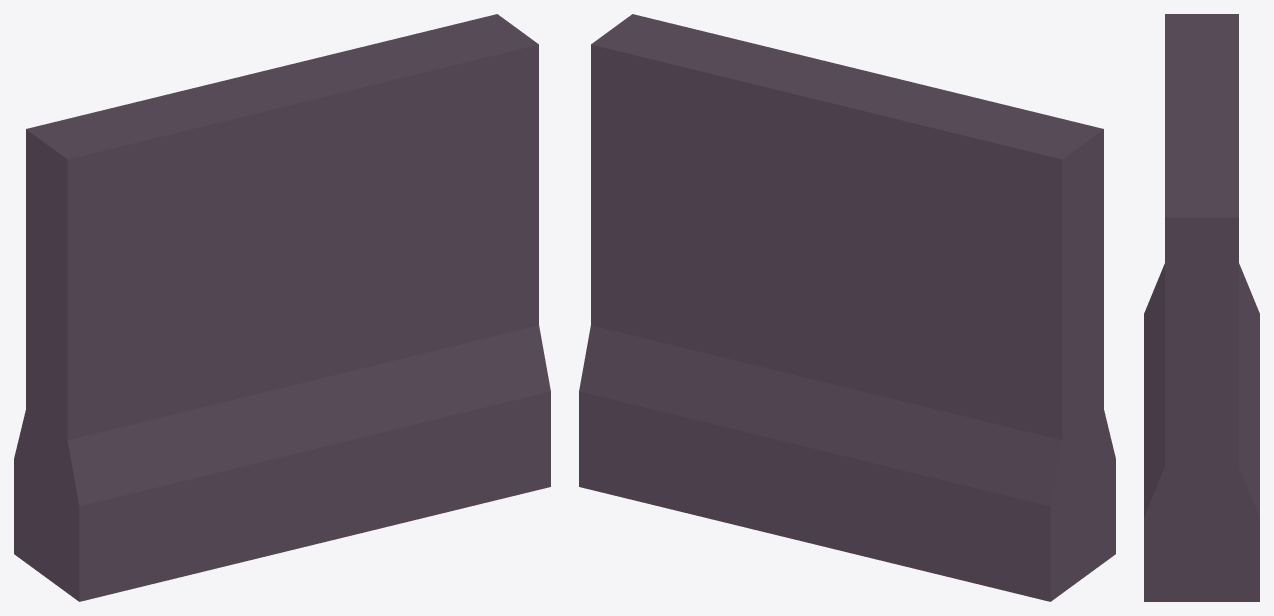
The model's file is Building6-WallMidModel.glb.
3 views of the same model, side by side, from view 1: azimuth 30°, elevation 25°; view 2: azimuth 150°, elevation 25°; view 3: azimuth 270°, elevation 25° (orthographic). The views are drawn at different scales.
Parts seen in each view (by area): view 1: Cube.002; view 2: Cube.002; view 3: Cube.002.
Boxes of the visible parts, x1,y1,x2,y2 form: Cube.002: (14,14,550,601); Cube.002: (579,14,1115,601); Cube.002: (1144,14,1259,601).
Bounding box in the file's own units: 4 × 3.52 × 0.96.
Materials: 1 (1 with a texture image).
